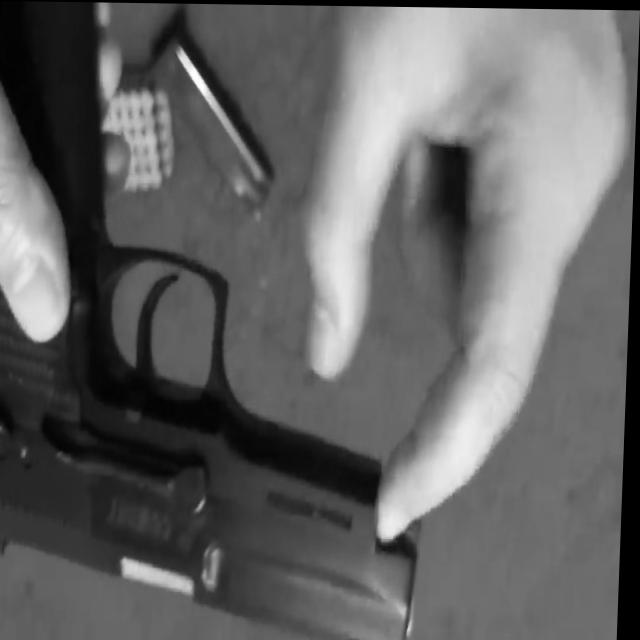handgun: (0, 48, 440, 640)
